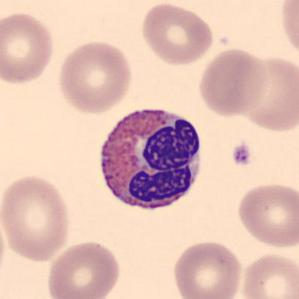Eosinophil: (92, 100, 208, 221)
Platelets: (229, 143, 253, 168)
RBC: (0, 171, 73, 263), (55, 38, 134, 114), (196, 46, 269, 118), (139, 0, 215, 68), (238, 53, 298, 134), (44, 238, 123, 299), (170, 238, 244, 299), (0, 8, 57, 87), (235, 180, 298, 250), (238, 250, 298, 299), (277, 0, 299, 61), (0, 202, 8, 289)
